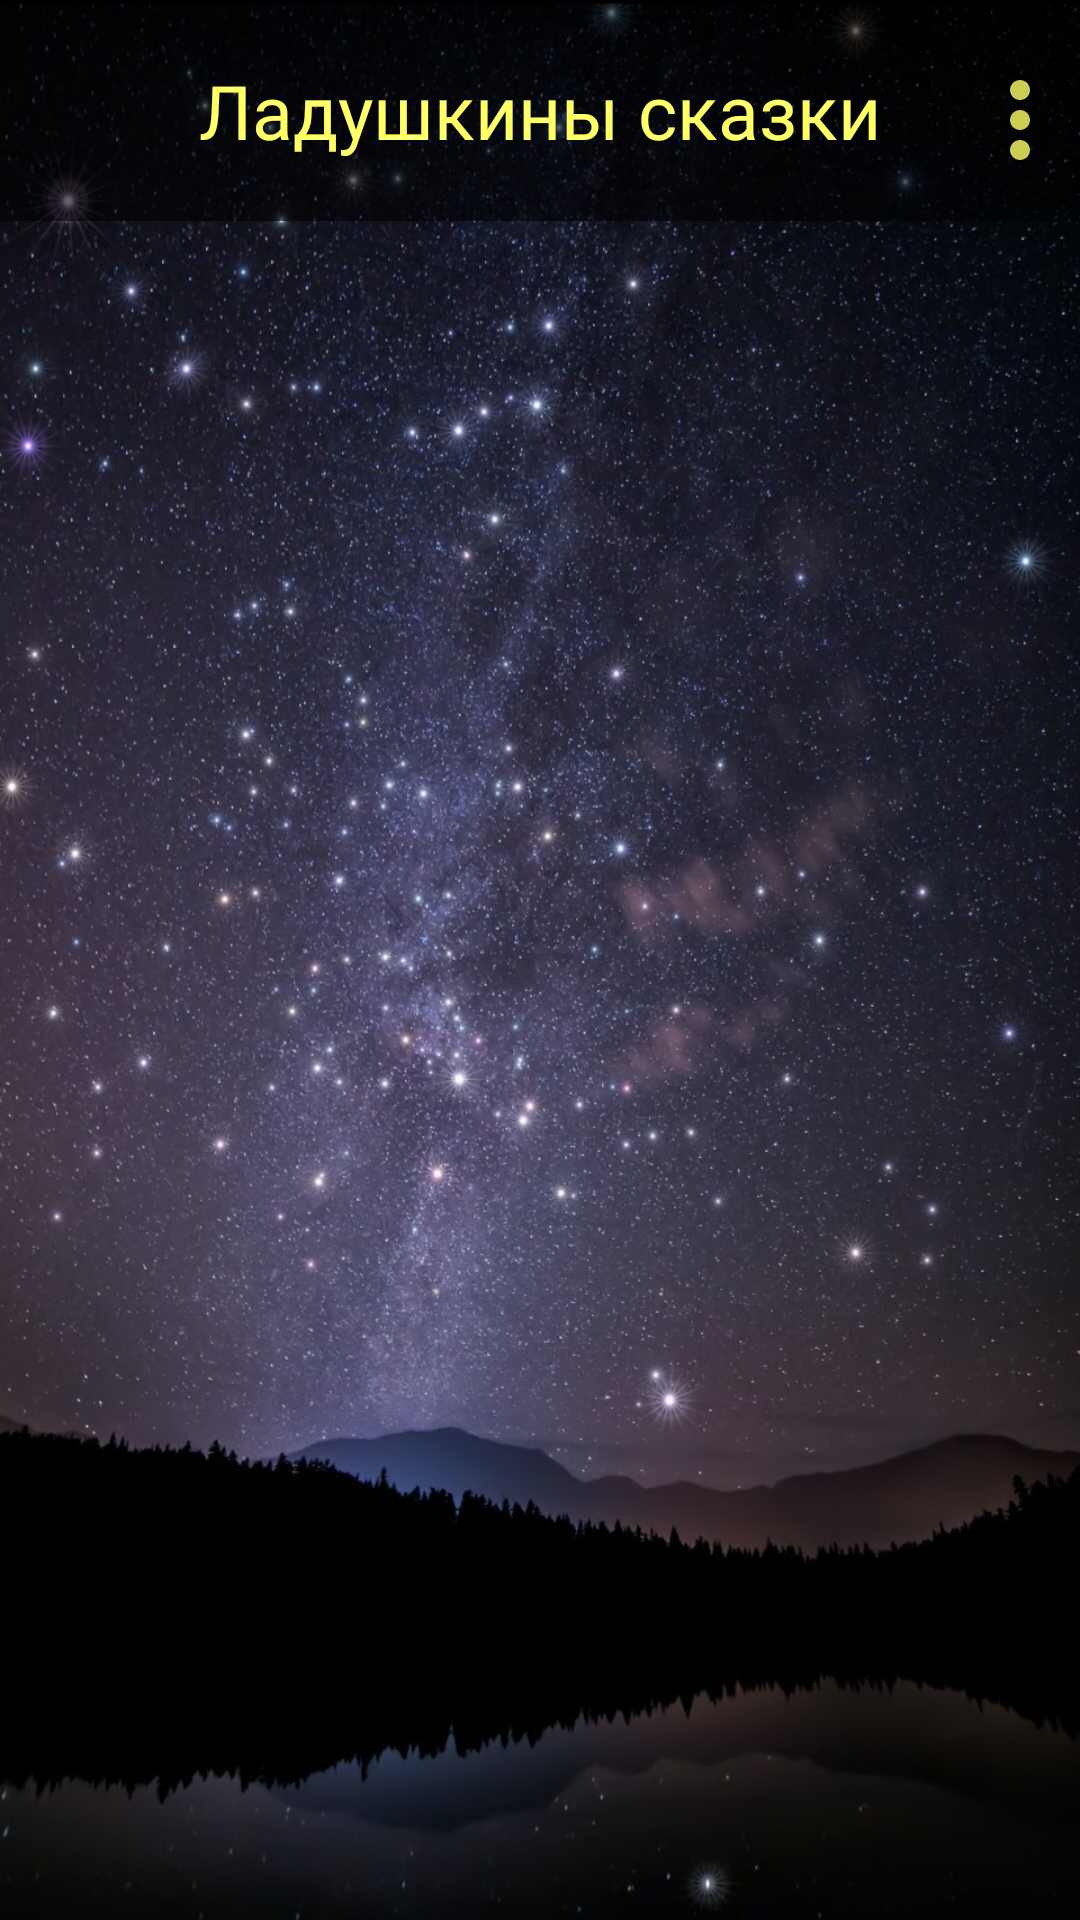

Named icons in this screenshot (1080px×1920px) and their bounding boxes, (x1, y1, x2, y2):
menu: (960, 63, 1080, 180)
